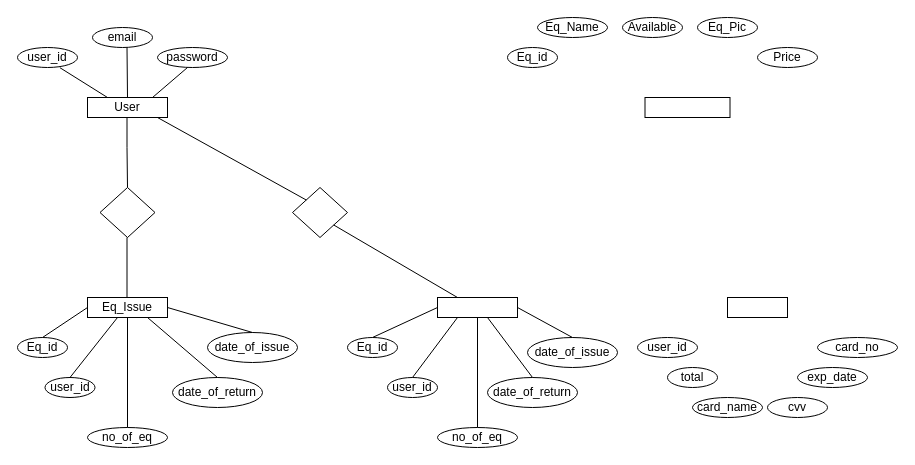
The diagram is 915 pixels wide and 465 high, and some of its shapes have lost their labels. The centre of each missing label's shape, as x and y in pixels:
"Bill" goes at [757,307].
"Eq_Return" goes at [477,307].
"Equipment" goes at [687,107].
"Issues" goes at [127,212].
"Returns" goes at [320,212].
